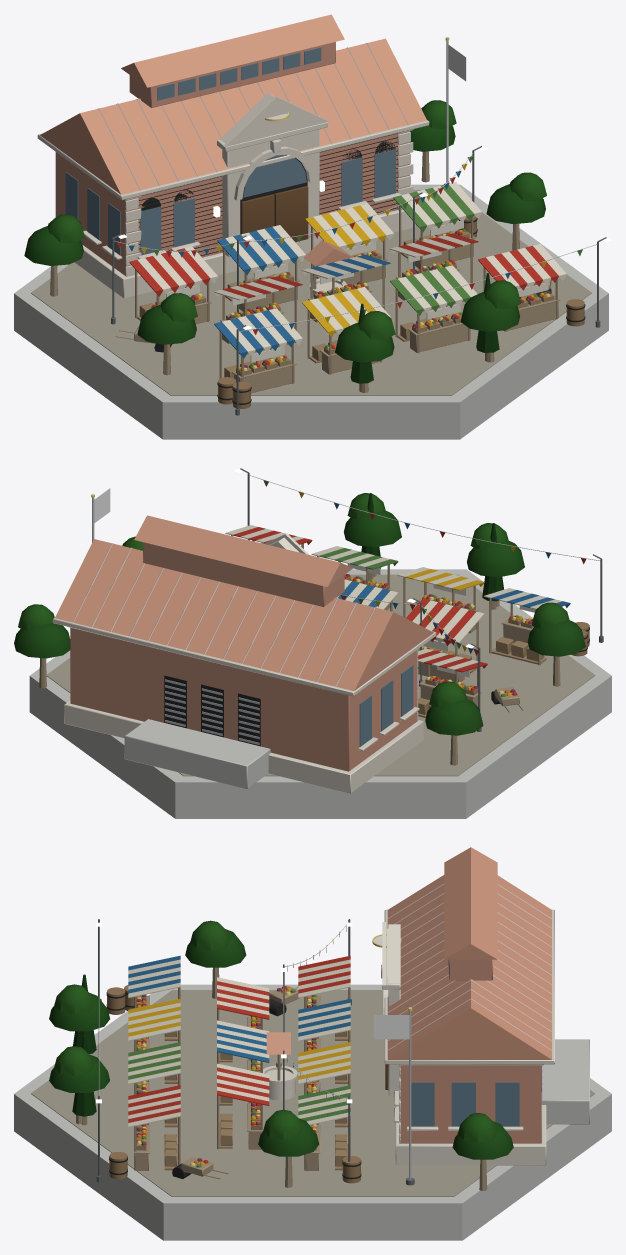
Rendered from market_med.glb.
The picture shows the model from 3 angles, top to bottom: view 1: azimuth 30°, elevation 25°; view 2: azimuth 150°, elevation 25°; view 3: azimuth 270°, elevation 25°; orthographic projection. The views are drawn at different scales.
Visible parts, largest first — view 1: roof_tile, wall_concrete, paint, pavers, wood, stone, leaf, brick, glass, dark, metal, steel_dark; view 2: roof_tile, wall_concrete, brick, pavers, leaf, paint, stone, wood, metal, dark, glass, steel_dark; view 3: pavers, wall_concrete, roof_tile, paint, leaf, wood, stone, brick, metal, glass, steel_dark, banner (+1 smaller).
Part boxes in pixels (<box>): roof_tile: <box>40,14,426,266</box>; wall_concrete: <box>14,184,608,439</box>; paint: <box>116,113,582,371</box>; pavers: <box>31,190,591,395</box>; wood: <box>50,151,584,408</box>; stone: <box>37,93,429,298</box>; leaf: <box>24,100,546,383</box>; brick: <box>55,42,409,275</box>; glass: <box>65,47,395,255</box>; dark: <box>125,133,585,404</box>; metal: <box>98,40,597,331</box>; steel_dark: <box>111,146,606,415</box>; roof_tile: <box>55,515,433,690</box>; wall_concrete: <box>29,569,611,818</box>; brick: <box>70,542,417,771</box>; pavers: <box>46,574,595,776</box>; leaf: <box>14,493,585,735</box>; paint: <box>225,480,586,696</box>; stone: <box>52,533,436,793</box>; wood: <box>39,535,589,765</box>; metal: <box>73,475,599,744</box>; dark: <box>164,627,589,746</box>; glass: <box>359,665,413,746</box>; steel_dark: <box>240,468,603,731</box>; pavers: <box>31,990,594,1196</box>; wall_concrete: <box>14,984,611,1240</box>; roof_tile: <box>266,847,551,1059</box>; paint: <box>128,924,386,1167</box>; leaf: <box>49,920,513,1159</box>; wood: <box>76,967,487,1190</box>; stone: <box>263,909,554,1165</box>; brick: <box>400,959,541,1143</box>; metal: <box>98,884,552,1179</box>; glass: <box>411,959,519,1126</box>; steel_dark: <box>96,919,414,1185</box>; banner: <box>373,1015,409,1039</box>.
Size of the model in its own units: 21.41 by 10.7 by 24.6.
